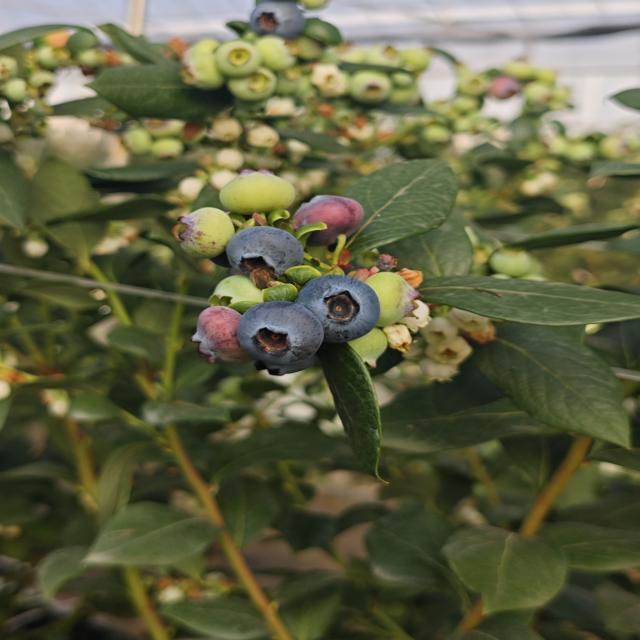ripe: (234, 298, 326, 374), (294, 272, 383, 344), (224, 224, 306, 278)
